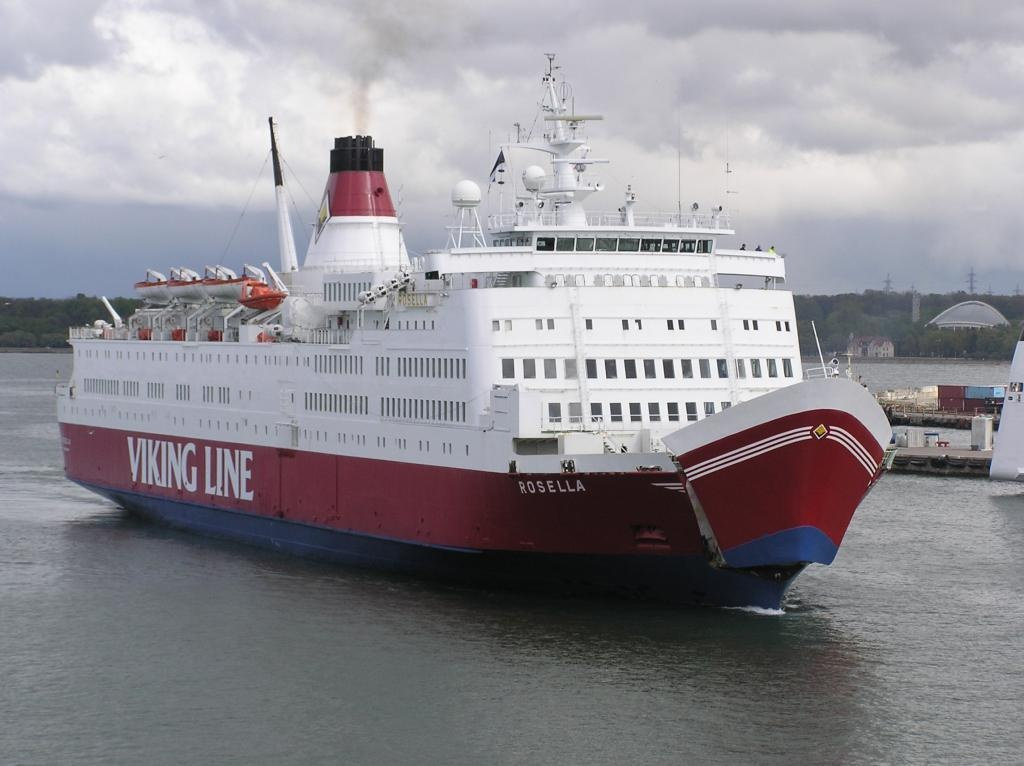youlun: (53, 80, 889, 610)
